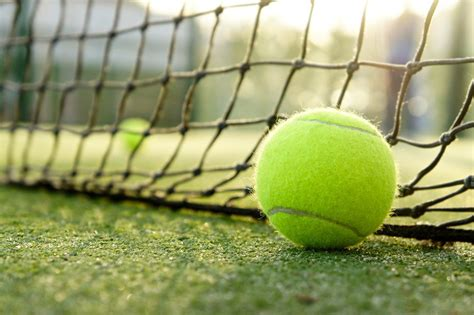tennis_ball: (255, 107, 398, 248)
